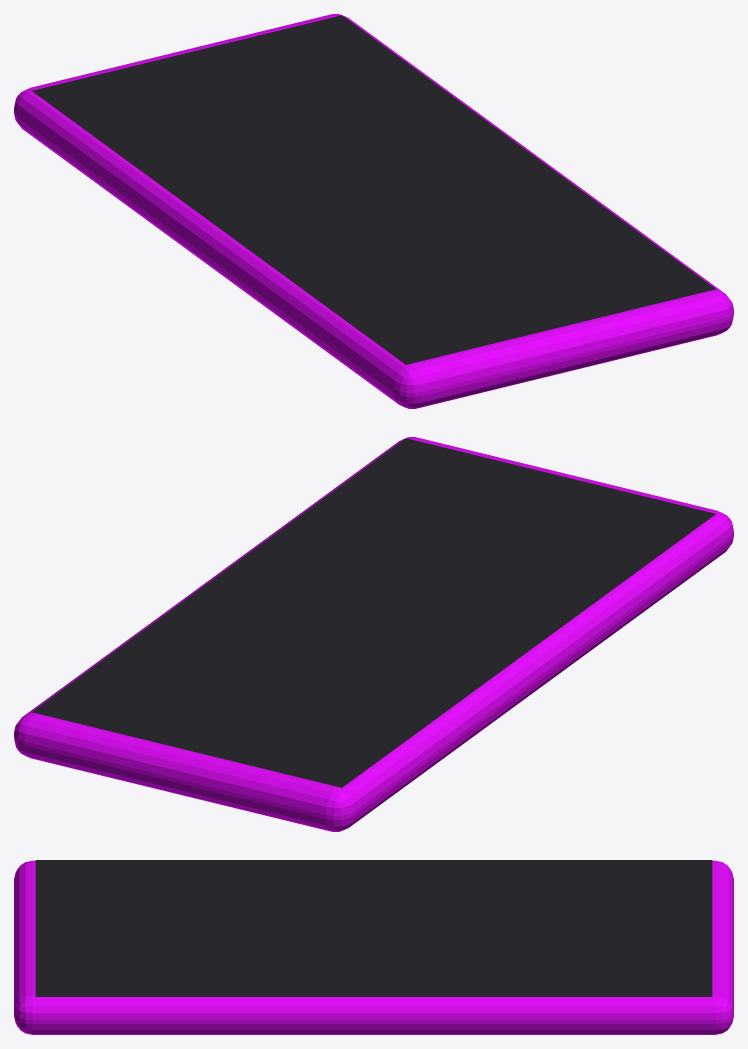
File: vivo-t-model-63-flagship-2023.glb
The picture shows the model from 3 angles, top to bottom: view 1: azimuth 30°, elevation 25°; view 2: azimuth 150°, elevation 25°; view 3: azimuth 270°, elevation 25°; orthographic projection. The views are drawn at different scales.
Parts seen in each view (by area): view 1: Phone_Screen, Phone_Body; view 2: Phone_Screen, Phone_Body; view 3: Phone_Screen, Phone_Body.
Part boxes in pixels (x1=…): Phone_Screen: x1=32, y1=15, x2=715, y2=364; Phone_Body: x1=14, y1=14, x2=733, y2=408; Phone_Screen: x1=32, y1=438, x2=715, y2=787; Phone_Body: x1=14, y1=437, x2=733, y2=831; Phone_Screen: x1=35, y1=860, x2=712, y2=996; Phone_Body: x1=14, y1=860, x2=733, y2=1034.
Bounding box in the file's own units: 0.0741 × 0.0089 × 0.1515.
